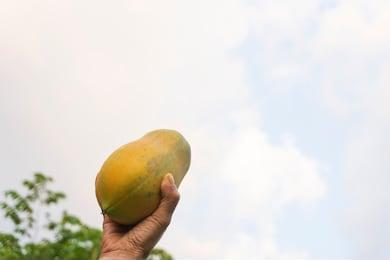papaya: (96, 129, 191, 224)
